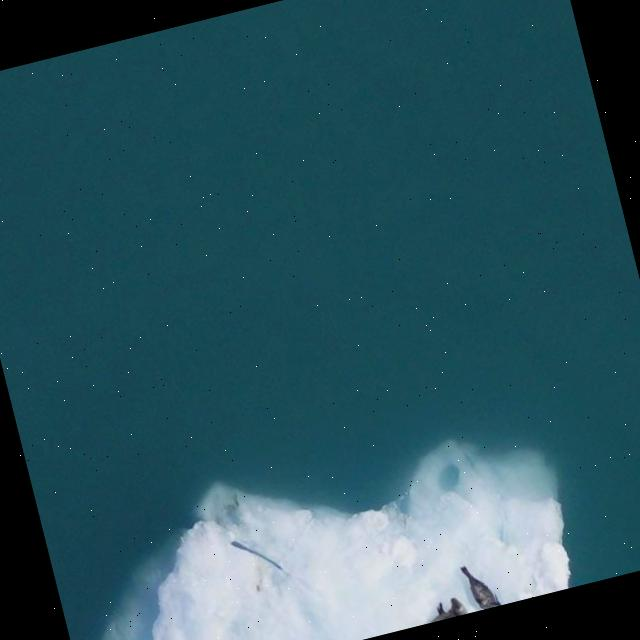seal: (460, 559, 498, 611), (425, 595, 466, 622)
